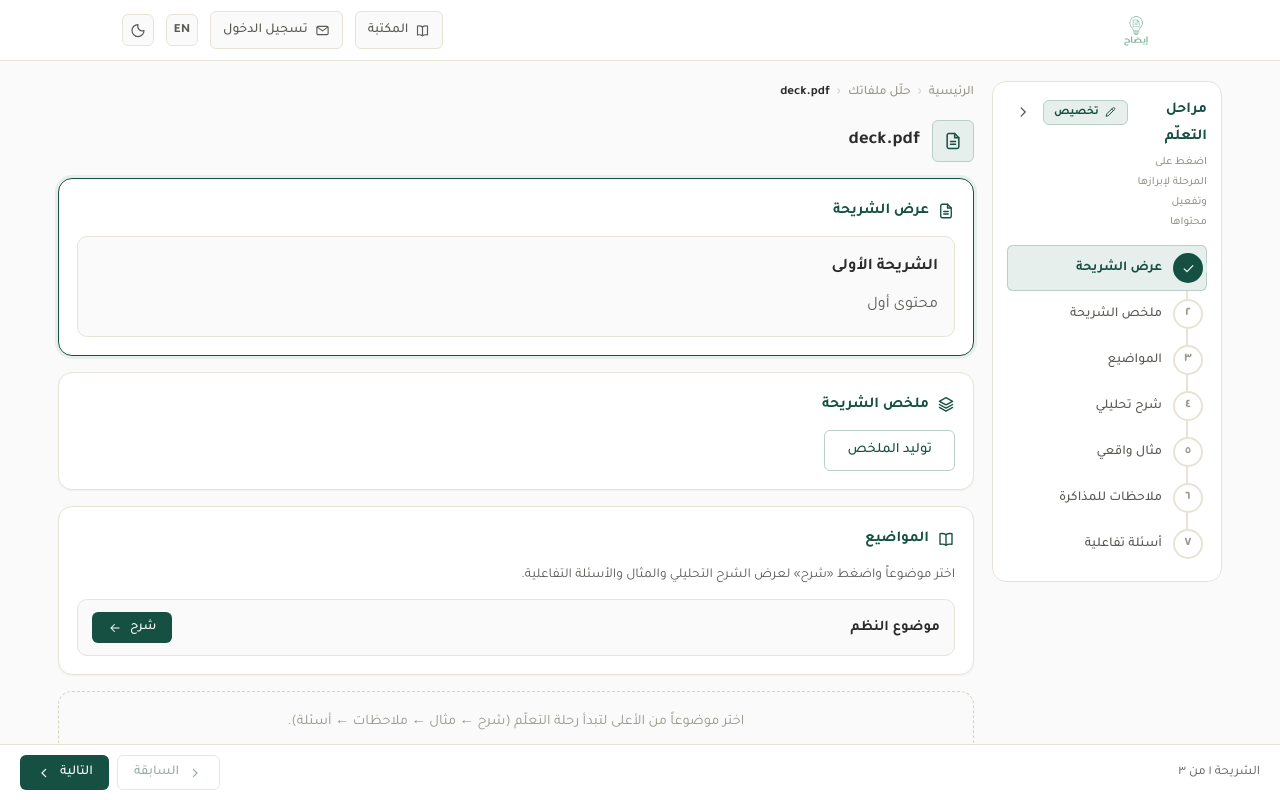
it: #109 generated content follows the current slide and topic › navigating slides regenerates the explanation, example and notes for each slide
Click the button with aria-label "شرح موضوع النظم".
click(132, 628)  # box top-left (92, 612), bottom-right (172, 643)
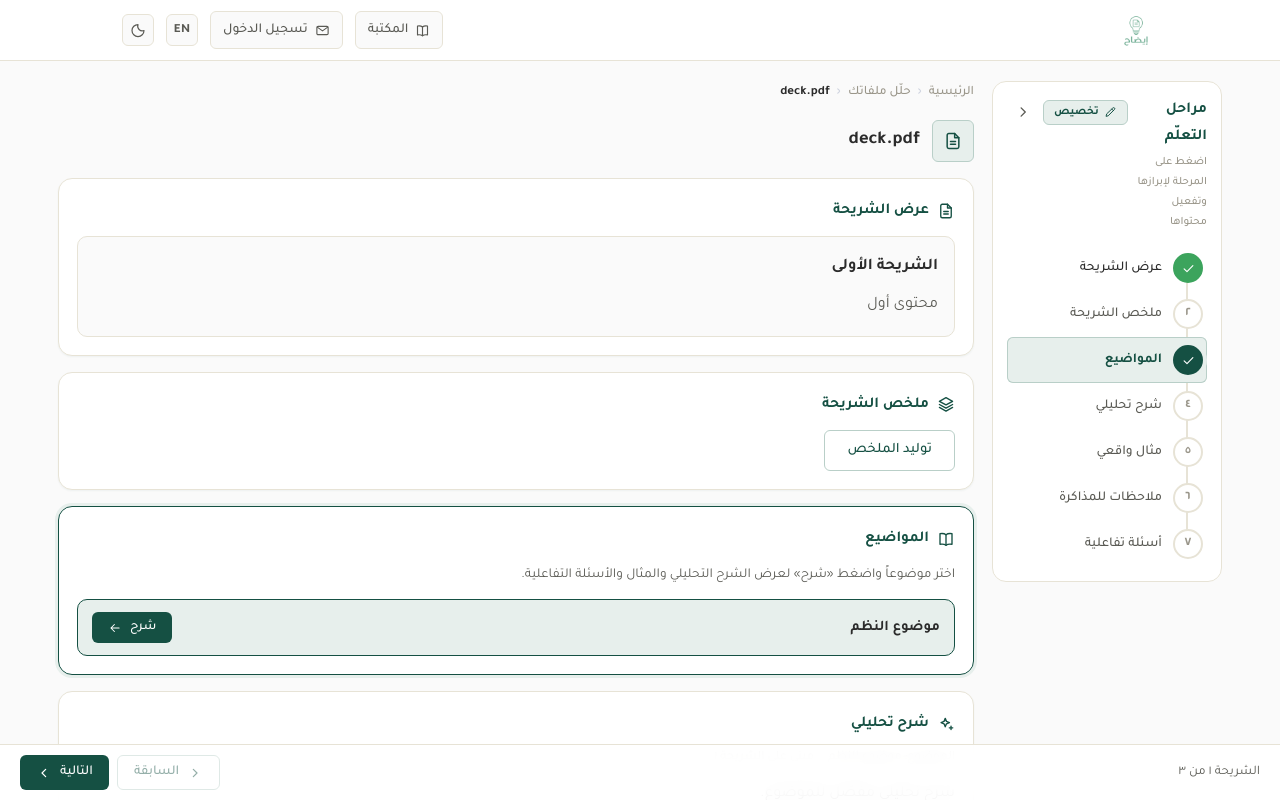
Click the button "التالية".
click(64, 772)  # box top-left (20, 755), bottom-right (109, 790)
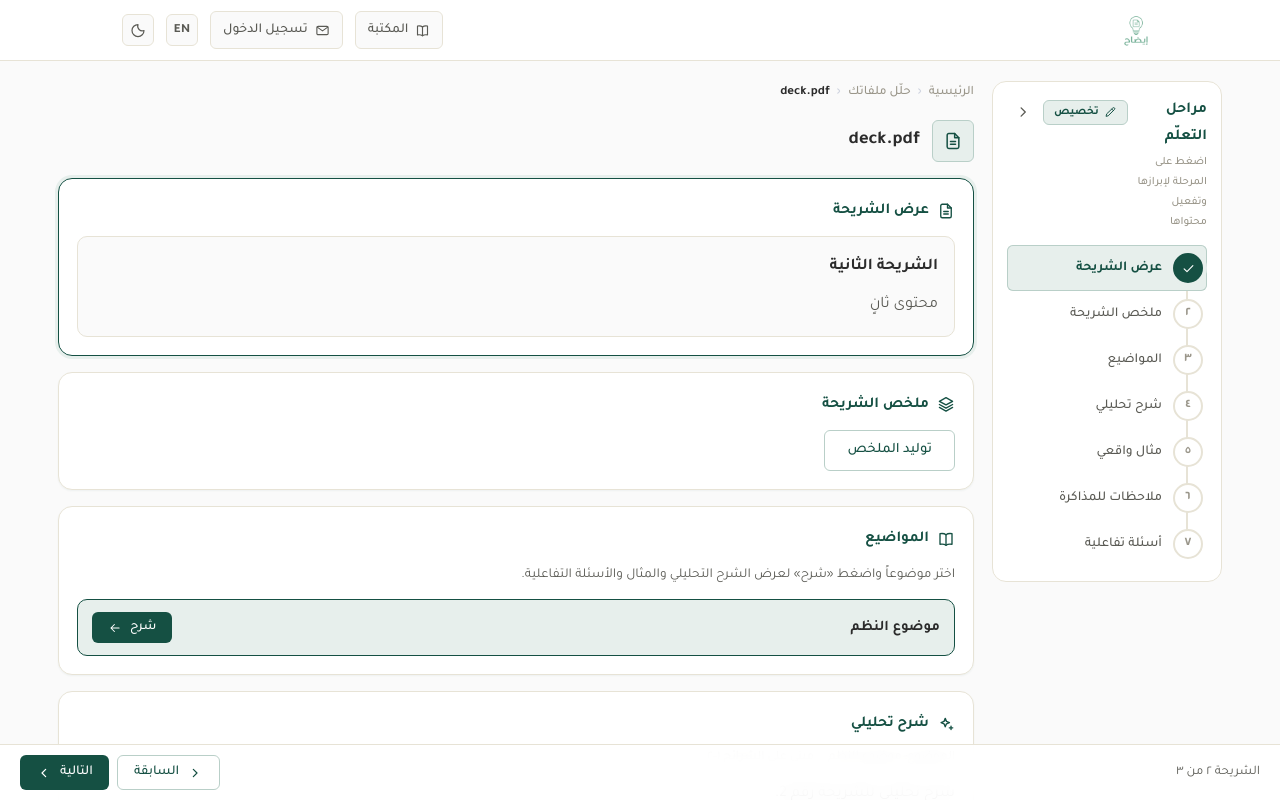
Click the button "التالية".
click(64, 772)  # box top-left (20, 755), bottom-right (109, 790)
(page scrolled)
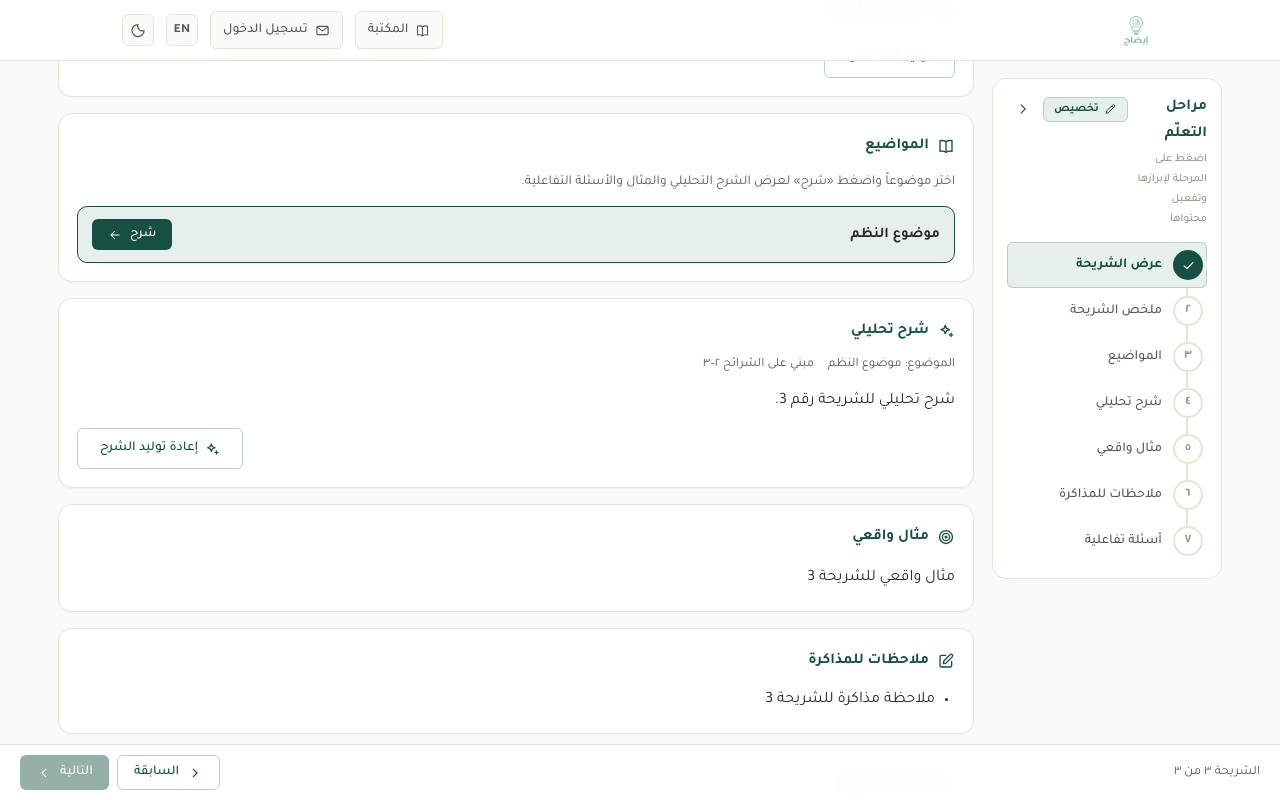
Result: the text "شرح تحليلي للشريحة رقم 3." is shown at top-left (775, 393), bottom-right (955, 409)
